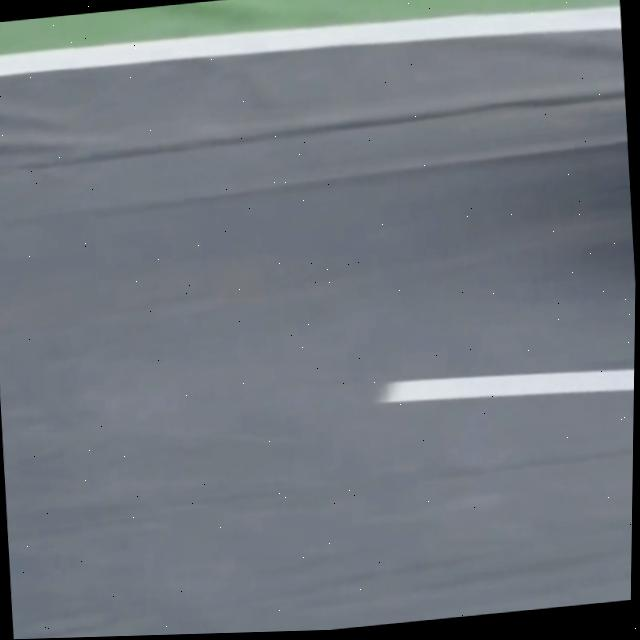center: (377, 369, 634, 401)
right: (0, 6, 621, 76)
